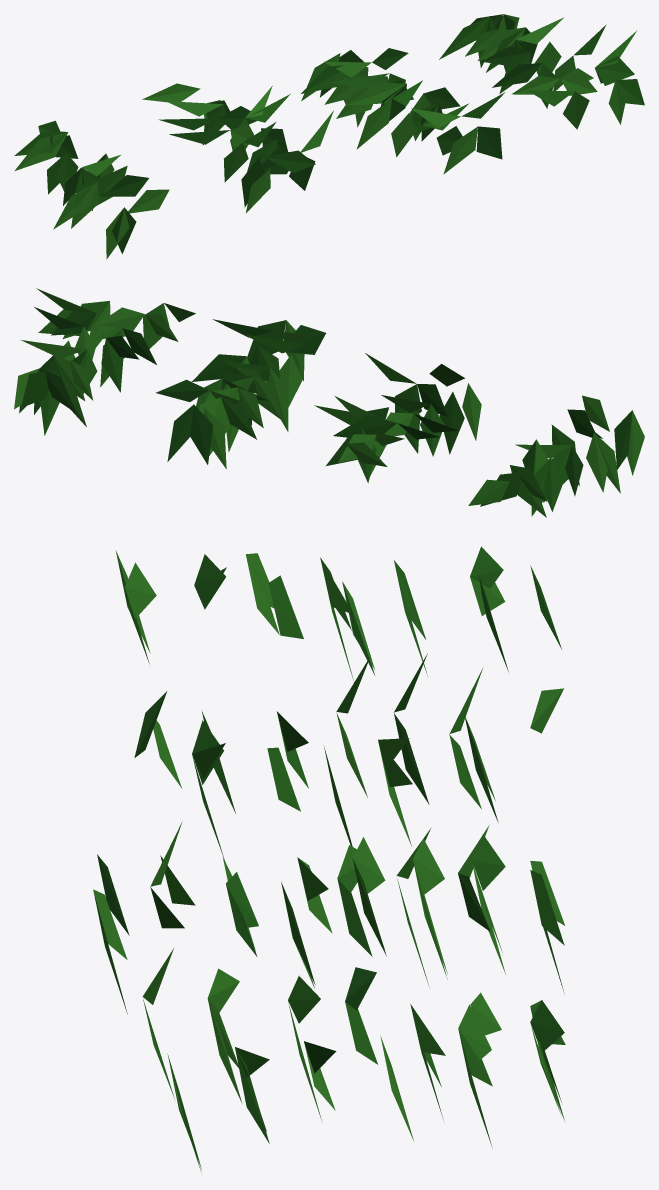
3 views of the same model, one above another, from view 1: azimuth 30°, elevation 25°; view 2: azimuth 150°, elevation 25°; view 3: azimuth 270°, elevation 25° (orthographic). The views are drawn at different scales.
Parts seen in each view (by area): view 1: r11c2_l01; view 2: r11c2_l01; view 3: r11c2_l01.
Boxes of the visible parts, x1,y1,x2,y2 form: r11c2_l01: (14,14,644,259); r11c2_l01: (14,288,644,517); r11c2_l01: (93,546,565,1172).
Size of the model in its own units: 1.79 by 0.2341 by 0.6312.
